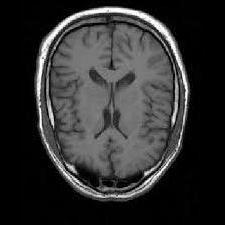Normal_Brain: (38, 6, 208, 213)
